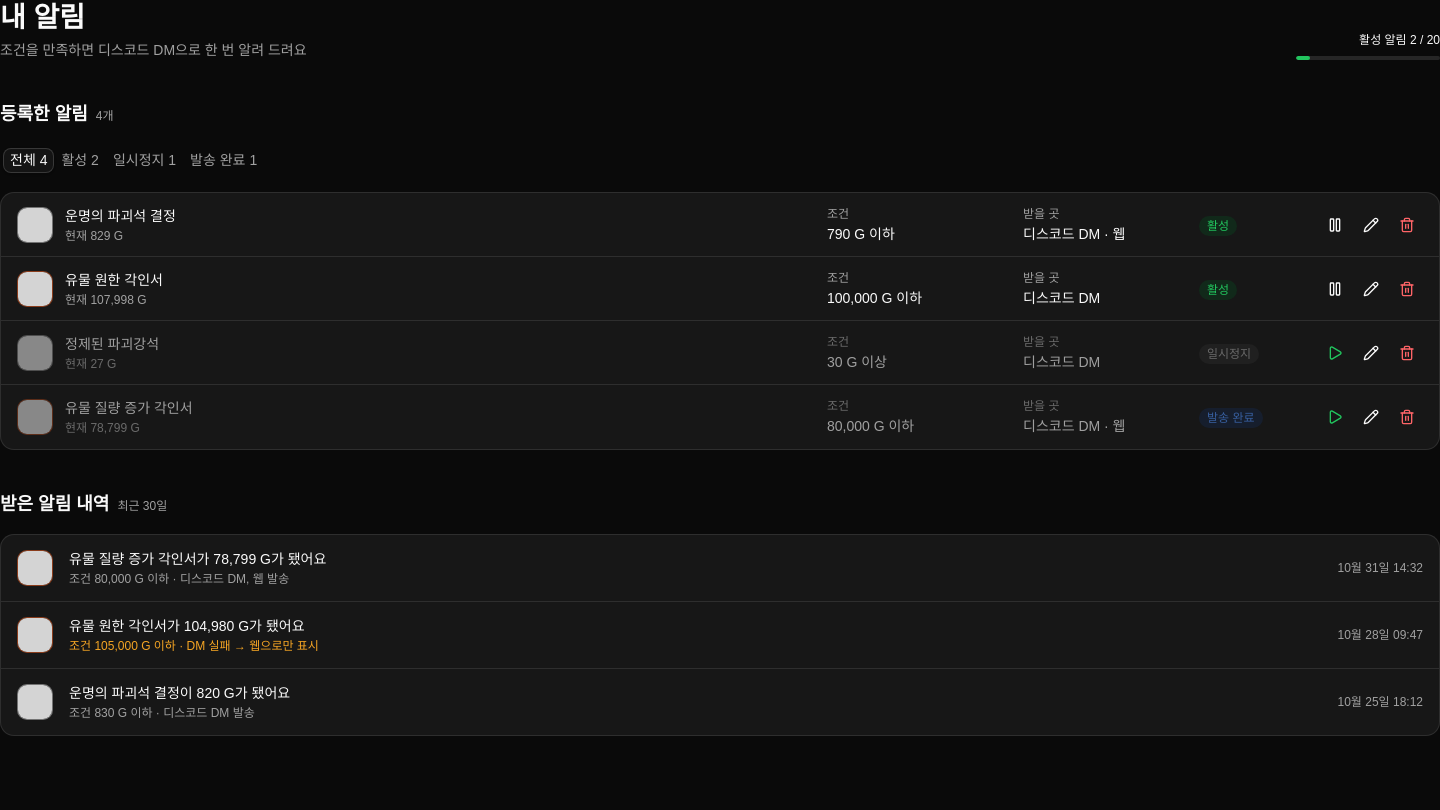
Test: 내 알림 화면 › 수정 모달에서 기준가를 바꾼다
The width and height of the screenshot is (1440, 810).
Click the button named "수정: 운명의 파괴석 결정 · 790 G 이하" at (1371, 224), box [1355,208,1387,240]
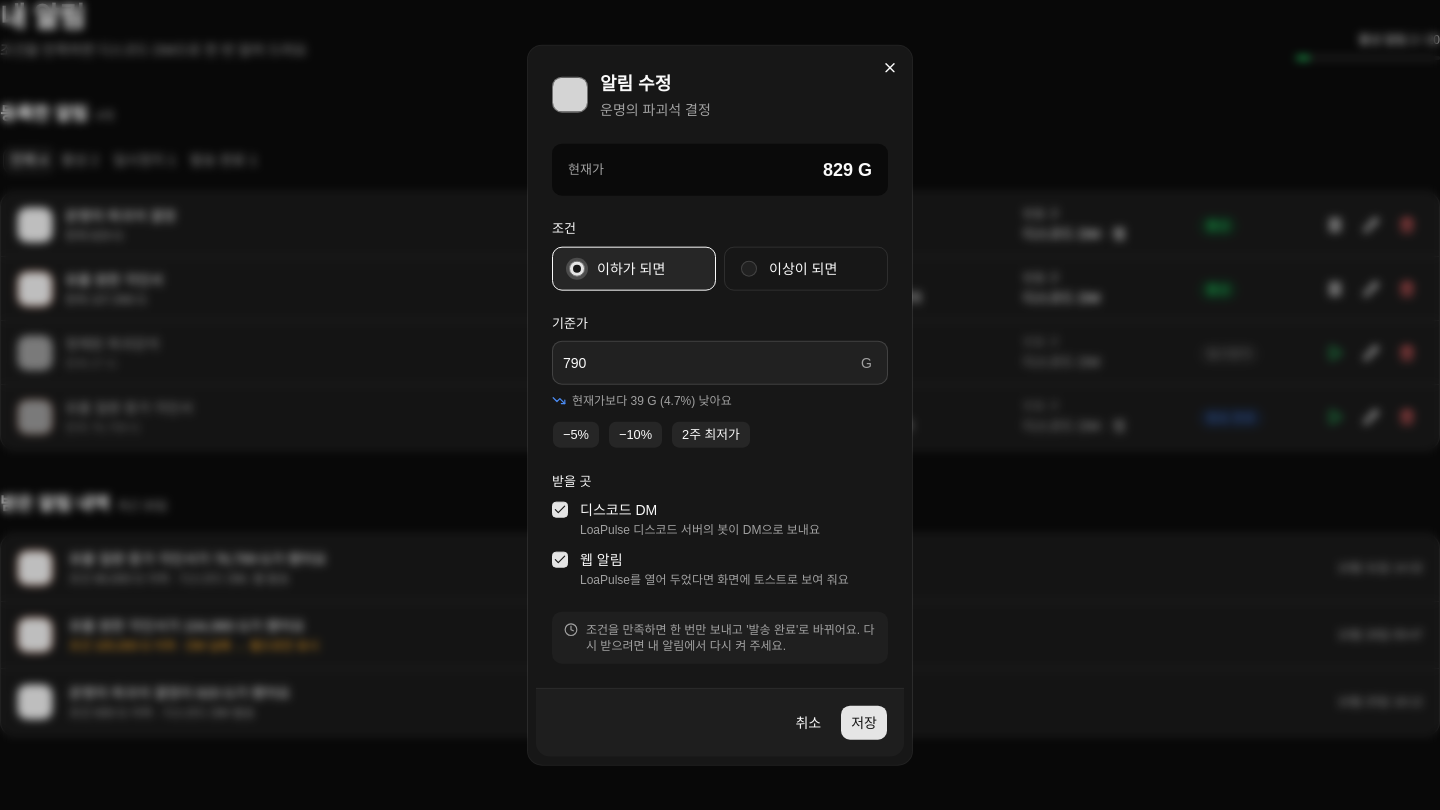
Replace the text in the field labelled "기준가" with "760" at (720, 363), box [552,341,888,385]
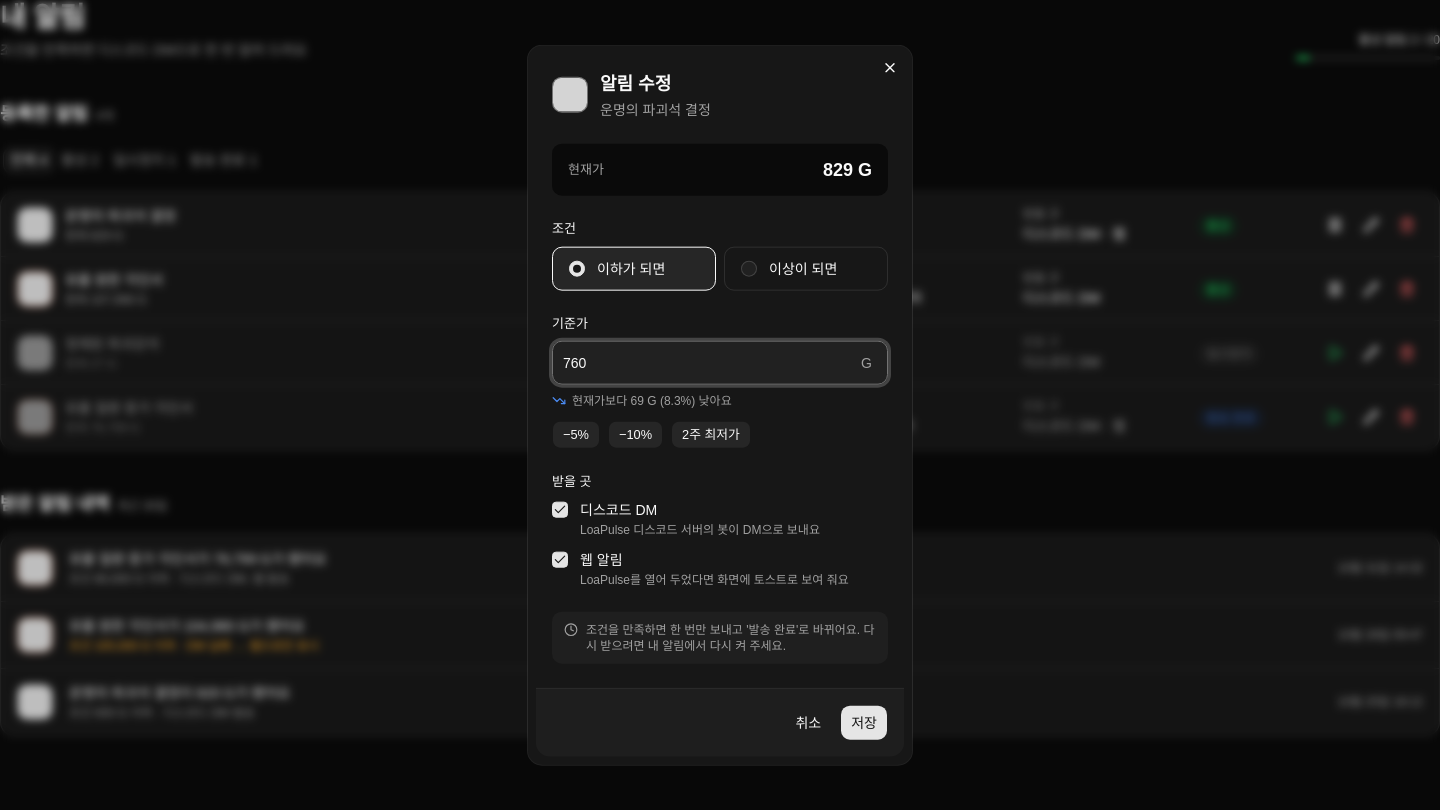
Click the button "저장" at (864, 722), box [840,704,888,740]
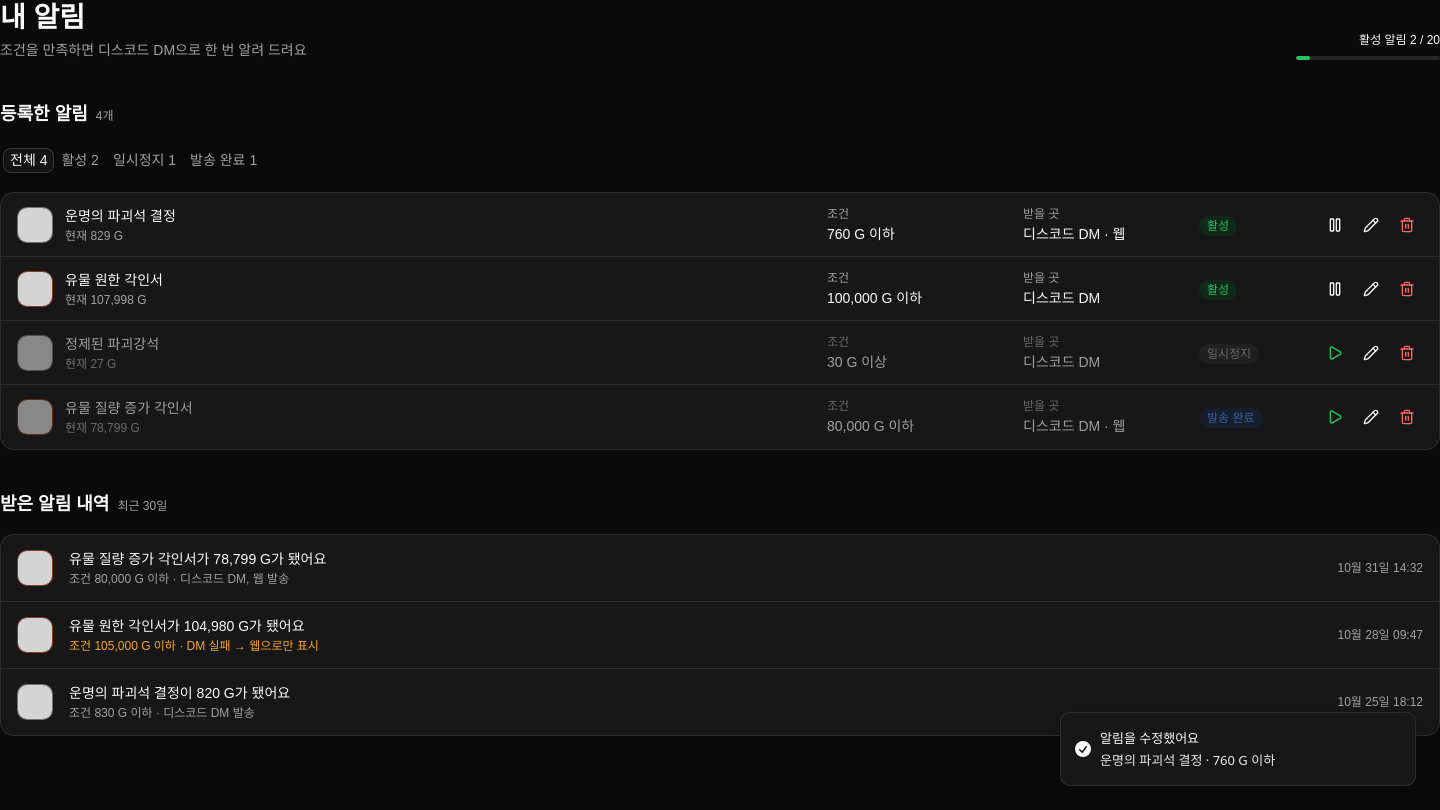
Check: the text "760 G 이하" is shown, box [827,226,895,242]
